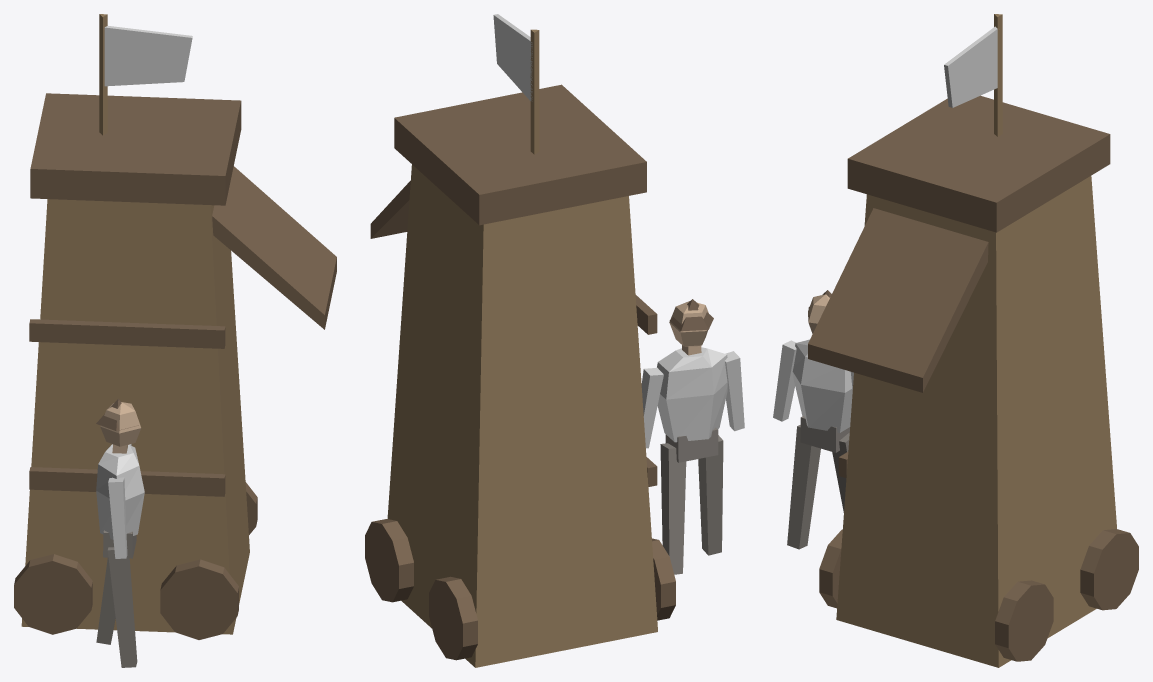
Rendered from siege-tower.glb.
The picture shows the model from 3 angles, left to right: view 1: azimuth 30°, elevation 25°; view 2: azimuth 150°, elevation 25°; view 3: azimuth 270°, elevation 25°; orthographic projection. The views are drawn at different scales.
Visible parts, largest first — view 1: LOD0; view 2: LOD0; view 3: LOD0.
Boxes of the visible parts, left/top/right/bottom form: LOD0: left=14, top=14, right=336, bottom=667; LOD0: left=365, top=14, right=744, bottom=667; LOD0: left=773, top=14, right=1138, bottom=667.
Size of what is drawn, in the model's own units: 0.8767 by 1.55 by 0.8862.
